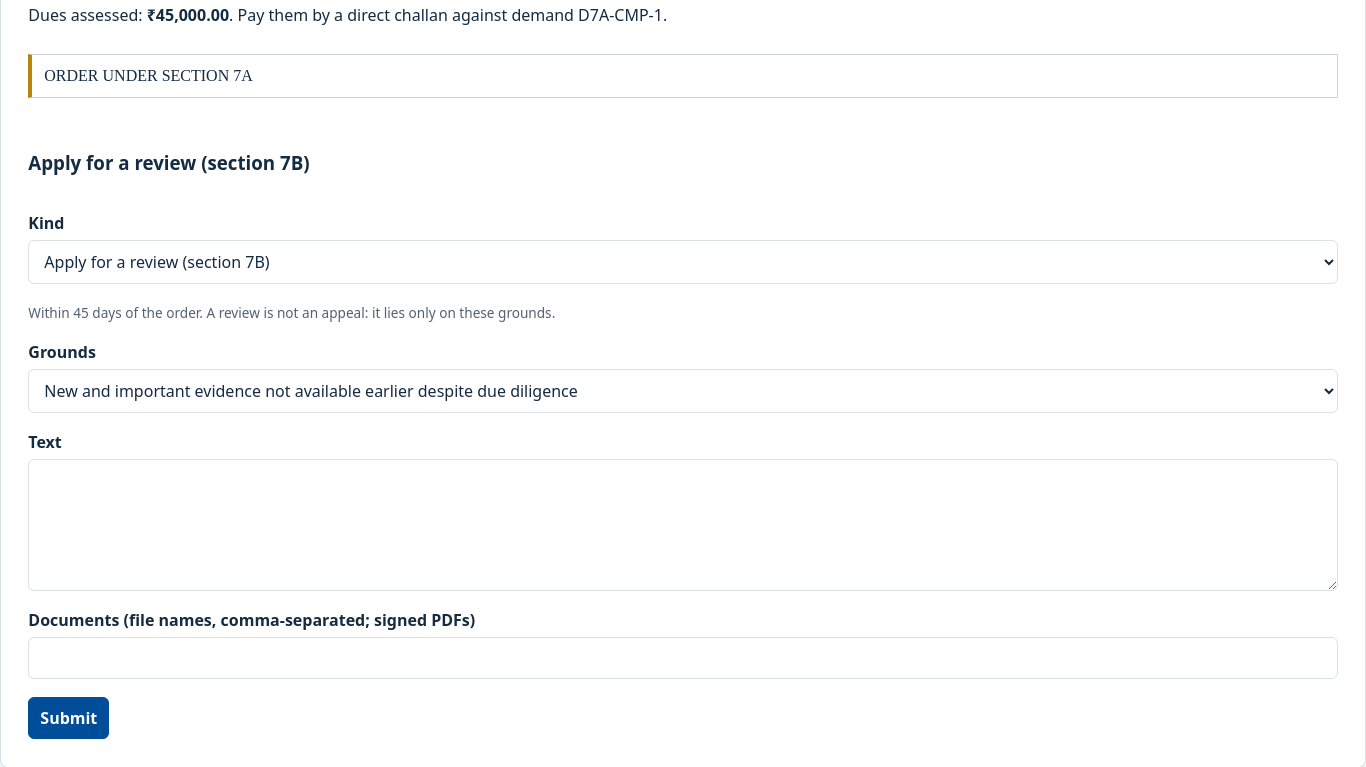
Scenario: review form posts the right body
The image size is (1366, 767).
(page scrolled)
Expected: the text "Within 45 days of the order. A review is not an appeal: it lies only on these grounds." is shown, top-left (28, 303), bottom-right (555, 322)
Select "A mistake or error apparent on the face of the record" in the dropdown labelled "Grounds": (683,391) top-left (28, 369), bottom-right (1338, 413)
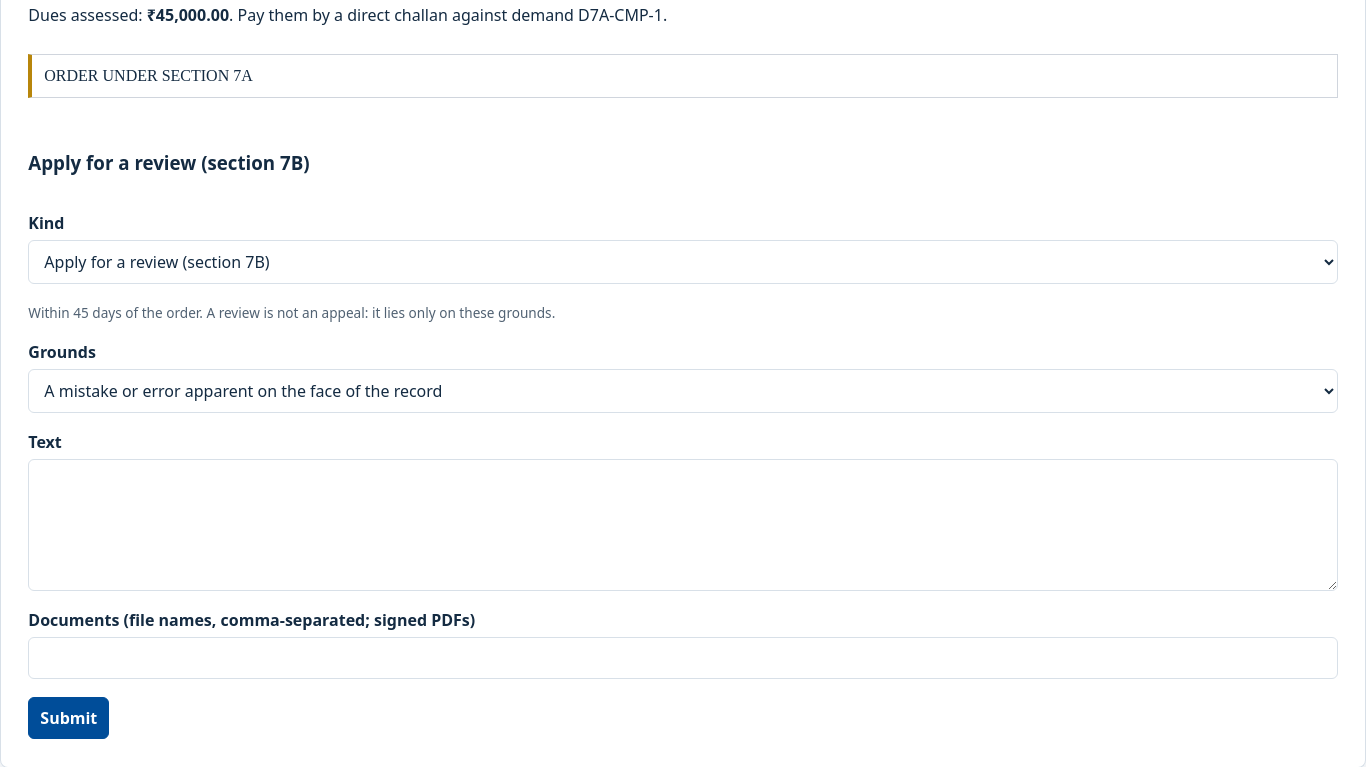
In the text box labelled "Text": (683,525) top-left (28, 459), bottom-right (1338, 591), type "Arithmetic error in schedule"
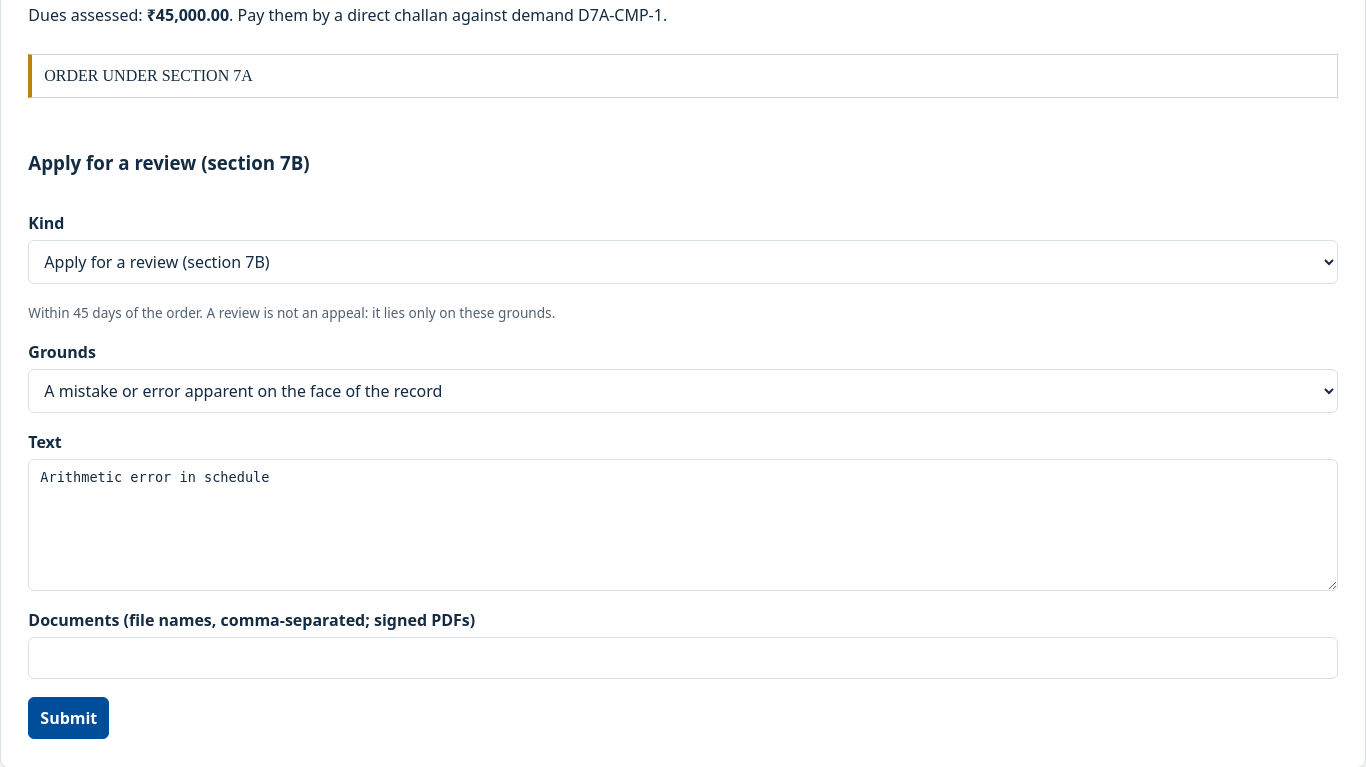
In the field labelled "Documents (file names, comma-separated; signed PDFs)": (683,658) top-left (28, 637), bottom-right (1338, 679), type "recomputation.pdf, muster.pdf"
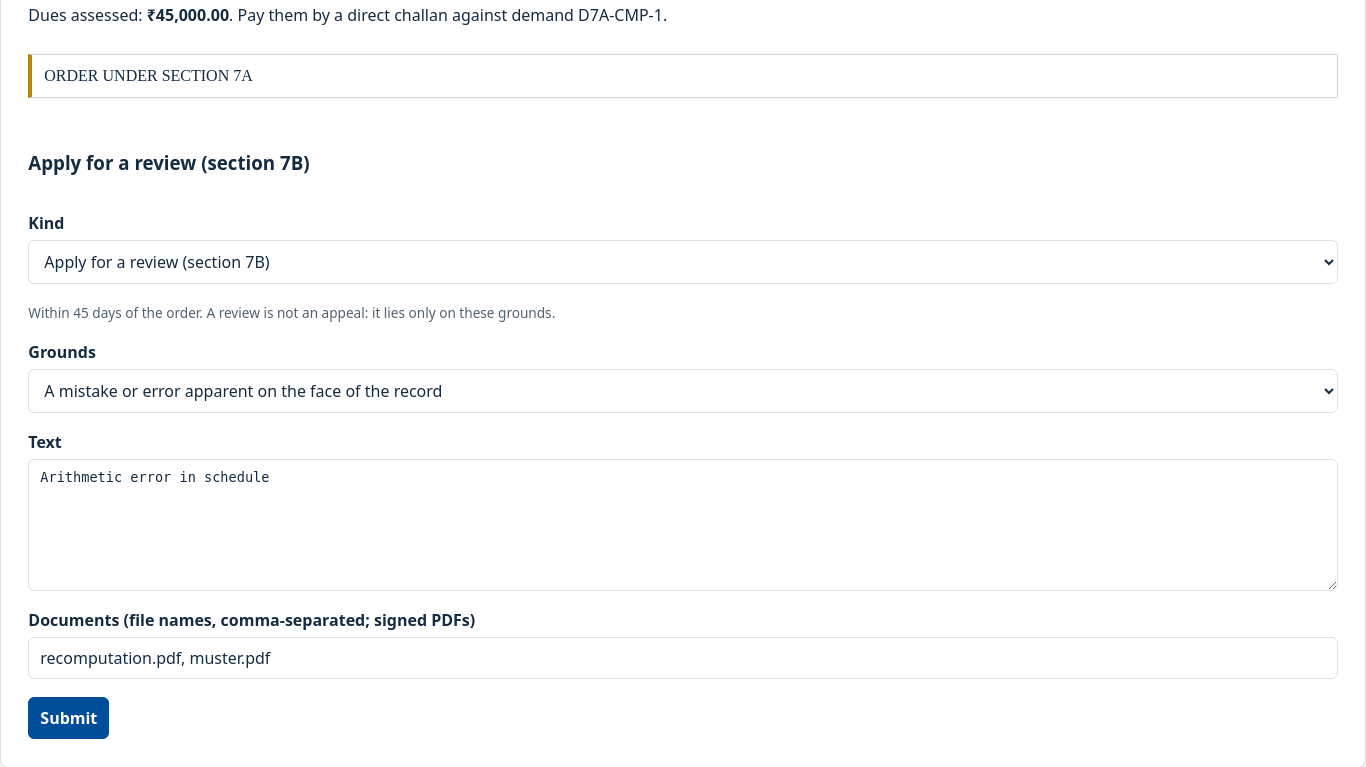
Click the button "Submit": (69,718) top-left (28, 697), bottom-right (109, 739)
(page scrolled)
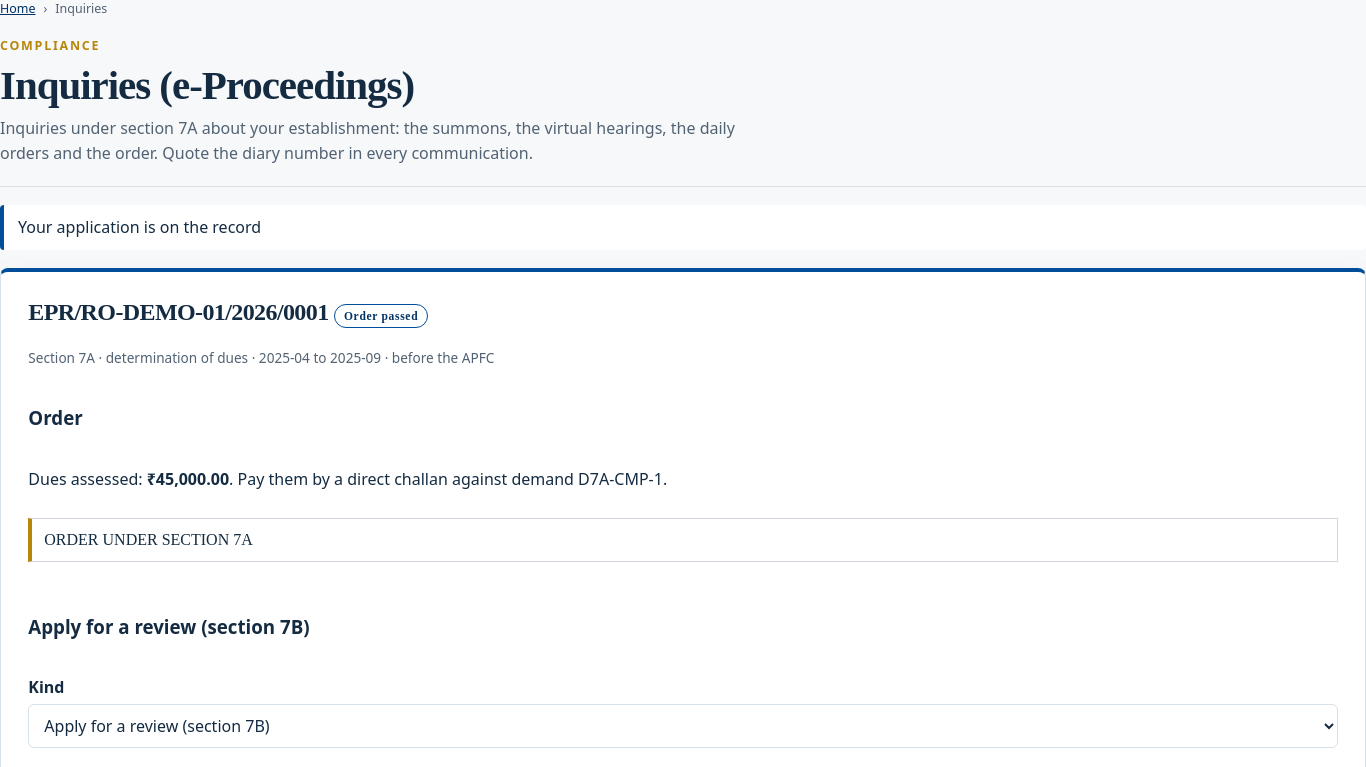
Result: the text "Your application is on the record" is shown at top-left (0, 205), bottom-right (1365, 250)
